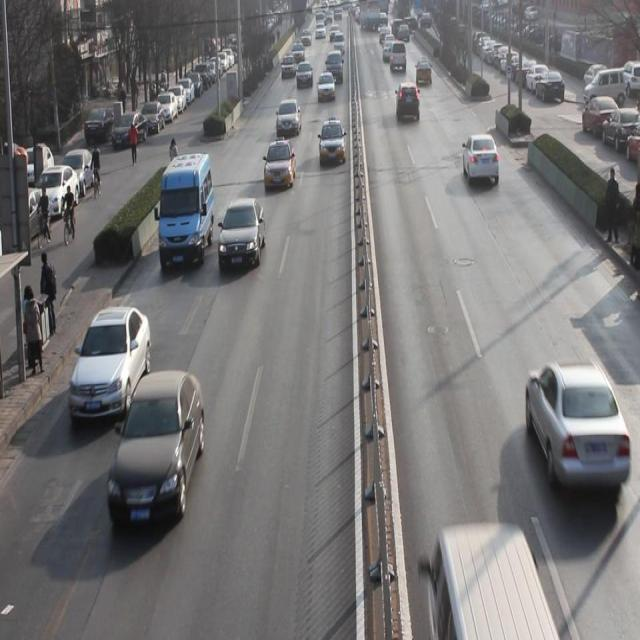car: (106, 382, 207, 526), (526, 364, 624, 496), (71, 312, 153, 415), (218, 200, 266, 274), (463, 132, 500, 188), (261, 140, 297, 193), (318, 117, 347, 169), (276, 99, 301, 140), (397, 83, 420, 124), (316, 70, 337, 102), (296, 60, 313, 89), (280, 54, 297, 80)
truck: (424, 520, 556, 640), (157, 155, 215, 267), (325, 52, 344, 85)
